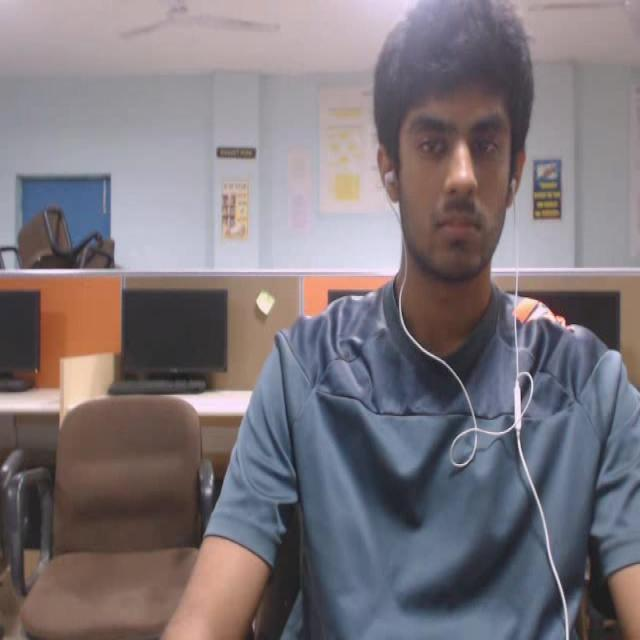Bored: (351, 0, 562, 319)
